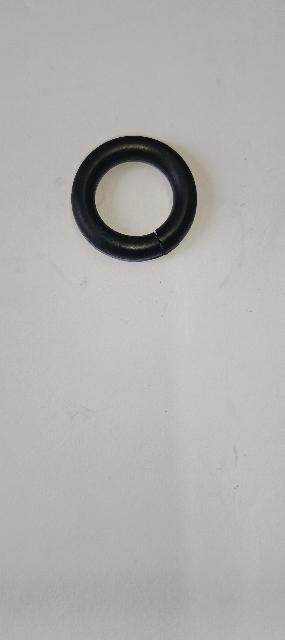crack: (151, 229, 172, 256)
scratch: (131, 235, 136, 262)
